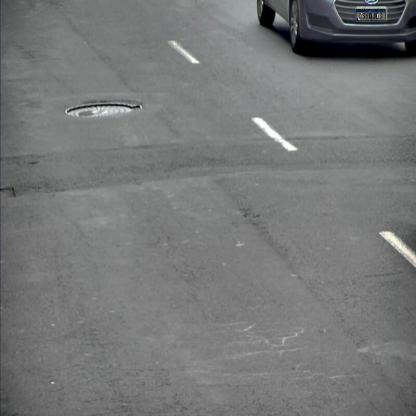PlacaM: (356, 9, 386, 21)
